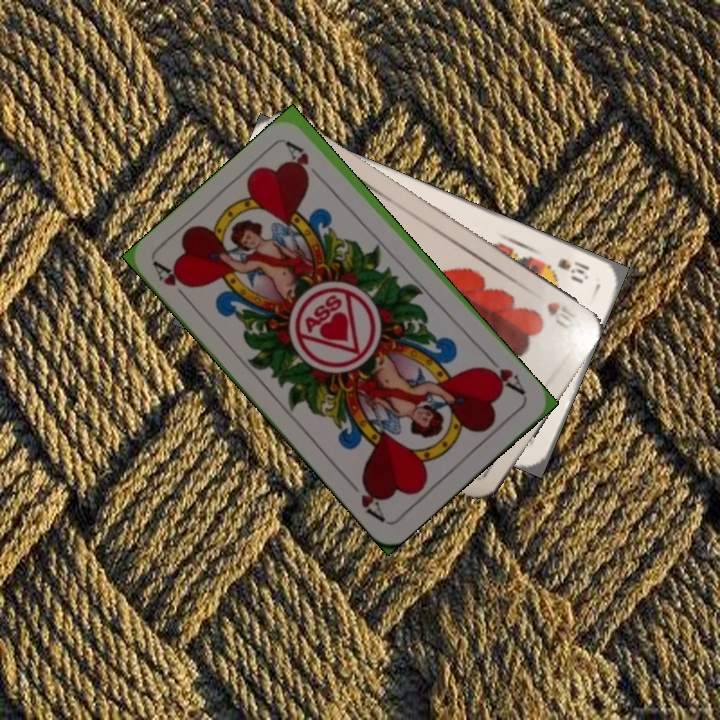H10: (542, 297, 578, 333)
HA: (479, 352, 529, 399), (150, 258, 195, 308)
S10: (553, 254, 592, 285)
